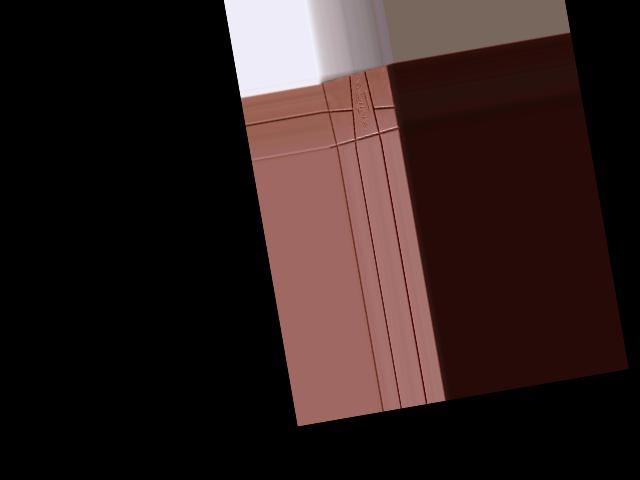chocolate: (317, 62, 404, 152)
